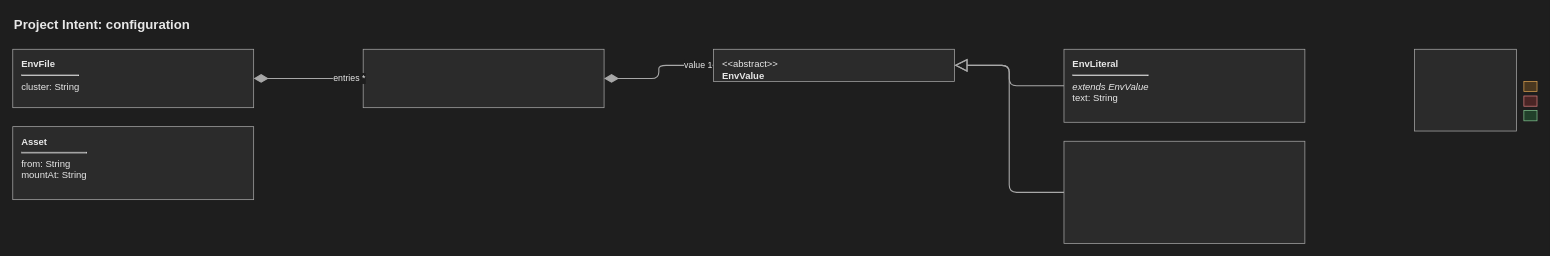
This 1550x256 diagram has some shape labels left out. The centre of each missing label's shape, as x and y in pixels:
EnvVariable name: String: [483,78]
Legend carried over changed removed new: [1465,90]
Placeholder extends EnvValue kind: PlaceholderKind source: String suffix: String: [1184,192]
